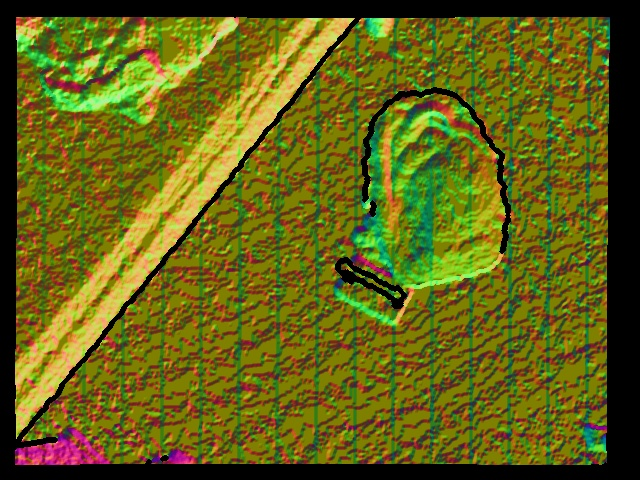station: (333, 256, 415, 328)
